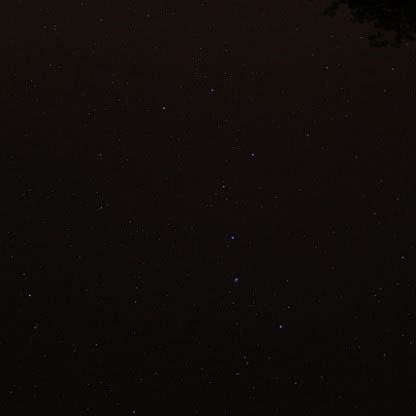Ursa Major: (152, 97, 173, 124), (210, 169, 233, 192), (224, 267, 246, 290), (220, 222, 240, 247), (268, 315, 288, 340), (241, 143, 260, 167), (202, 79, 223, 98)
